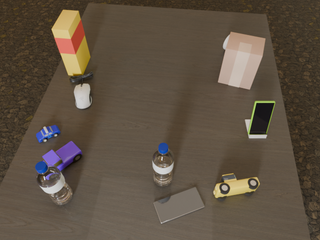bottle: (35, 161, 73, 205), (153, 143, 174, 187)
box: (218, 32, 265, 89), (52, 10, 90, 76)
mouse: (74, 84, 91, 109)
phone: (154, 187, 204, 223), (248, 101, 275, 134)
toy_car: (213, 174, 260, 200), (42, 141, 82, 171), (36, 125, 60, 142)
